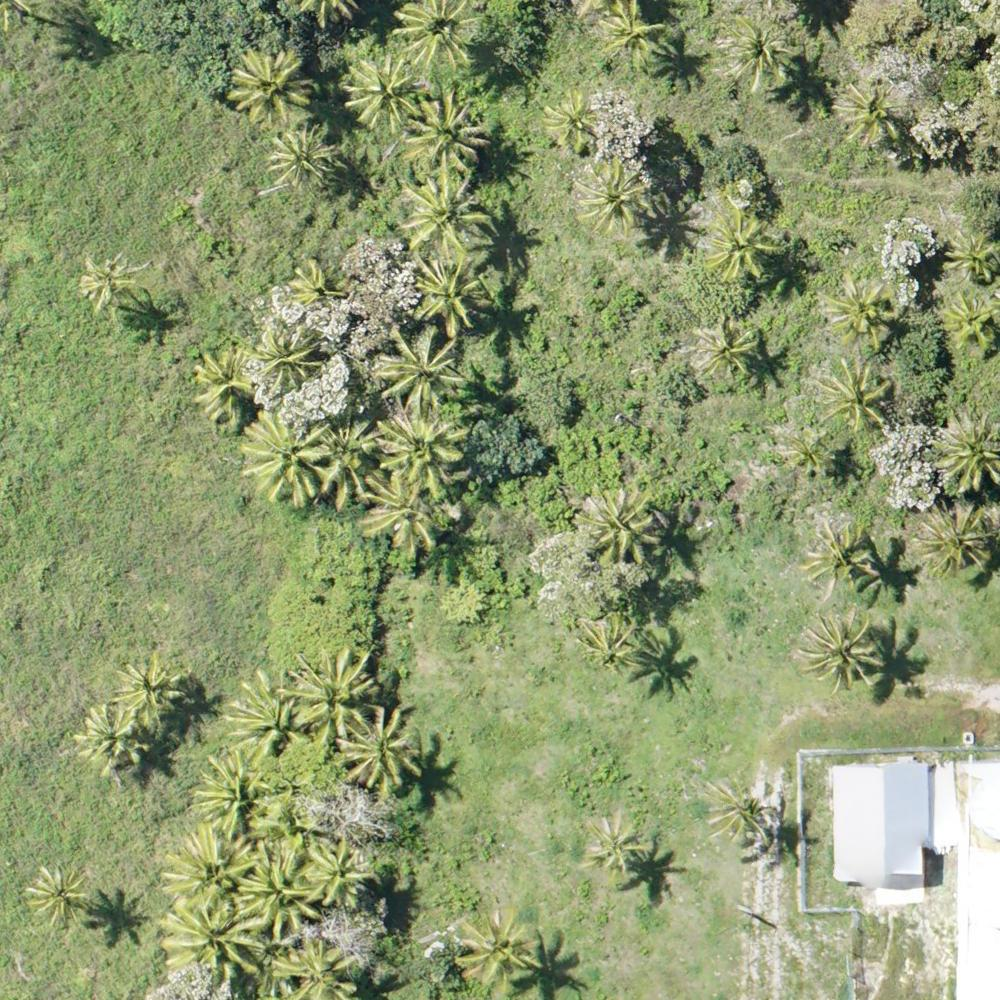Palm: (286, 650, 380, 746), (162, 898, 263, 981), (242, 406, 325, 506), (373, 409, 466, 495), (162, 833, 256, 918), (235, 844, 321, 934), (392, 173, 489, 252), (453, 904, 541, 990), (362, 475, 447, 564), (375, 323, 463, 408), (305, 417, 386, 506), (799, 604, 886, 686), (405, 90, 487, 176), (575, 488, 665, 566), (229, 46, 312, 128), (391, 4, 482, 77), (722, 13, 801, 96), (700, 208, 787, 283), (340, 712, 424, 789), (925, 409, 1000, 493), (800, 516, 879, 595), (196, 757, 273, 838), (408, 252, 483, 335), (231, 674, 305, 755), (569, 158, 651, 231), (705, 776, 789, 845), (822, 272, 899, 347), (337, 62, 419, 129), (814, 357, 889, 430), (281, 930, 355, 1000), (250, 328, 325, 392), (686, 322, 764, 383), (837, 79, 906, 147), (186, 347, 254, 414), (25, 864, 92, 931), (117, 656, 185, 721), (598, 1, 667, 65), (582, 813, 654, 874), (305, 840, 366, 911), (574, 611, 639, 676), (269, 127, 336, 190), (76, 706, 142, 768), (282, 255, 348, 316), (80, 255, 141, 315), (941, 229, 1000, 290), (545, 93, 604, 152), (941, 292, 1000, 350), (783, 433, 835, 481)
